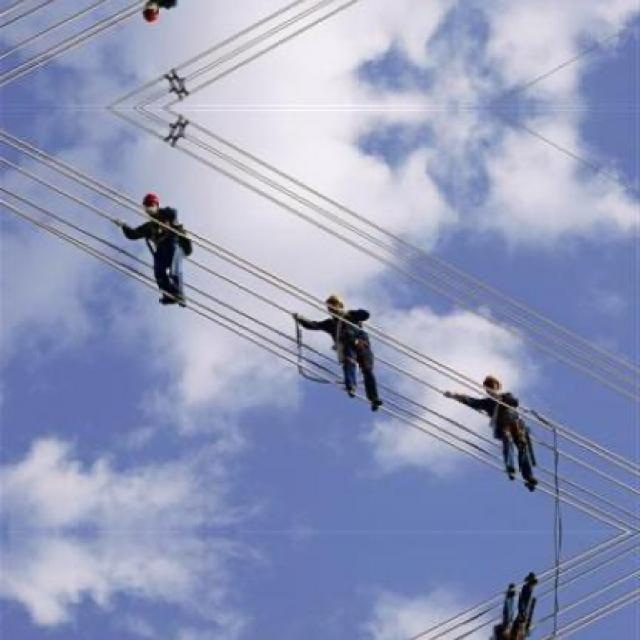helmet: (324, 292, 348, 318), (142, 188, 163, 216), (142, 0, 163, 28), (482, 374, 502, 399)
